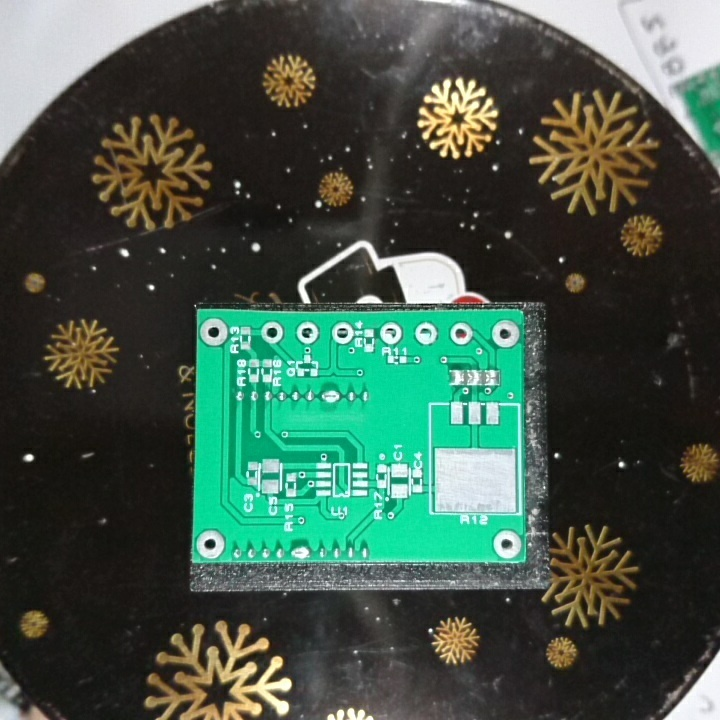F: (490, 318, 522, 350), (491, 529, 524, 560), (195, 529, 226, 561), (199, 316, 228, 347), (413, 320, 441, 348), (447, 320, 474, 348), (329, 320, 356, 346), (259, 319, 285, 346), (378, 321, 405, 346), (294, 321, 321, 346)
P: (319, 384, 342, 407), (288, 543, 311, 562)
